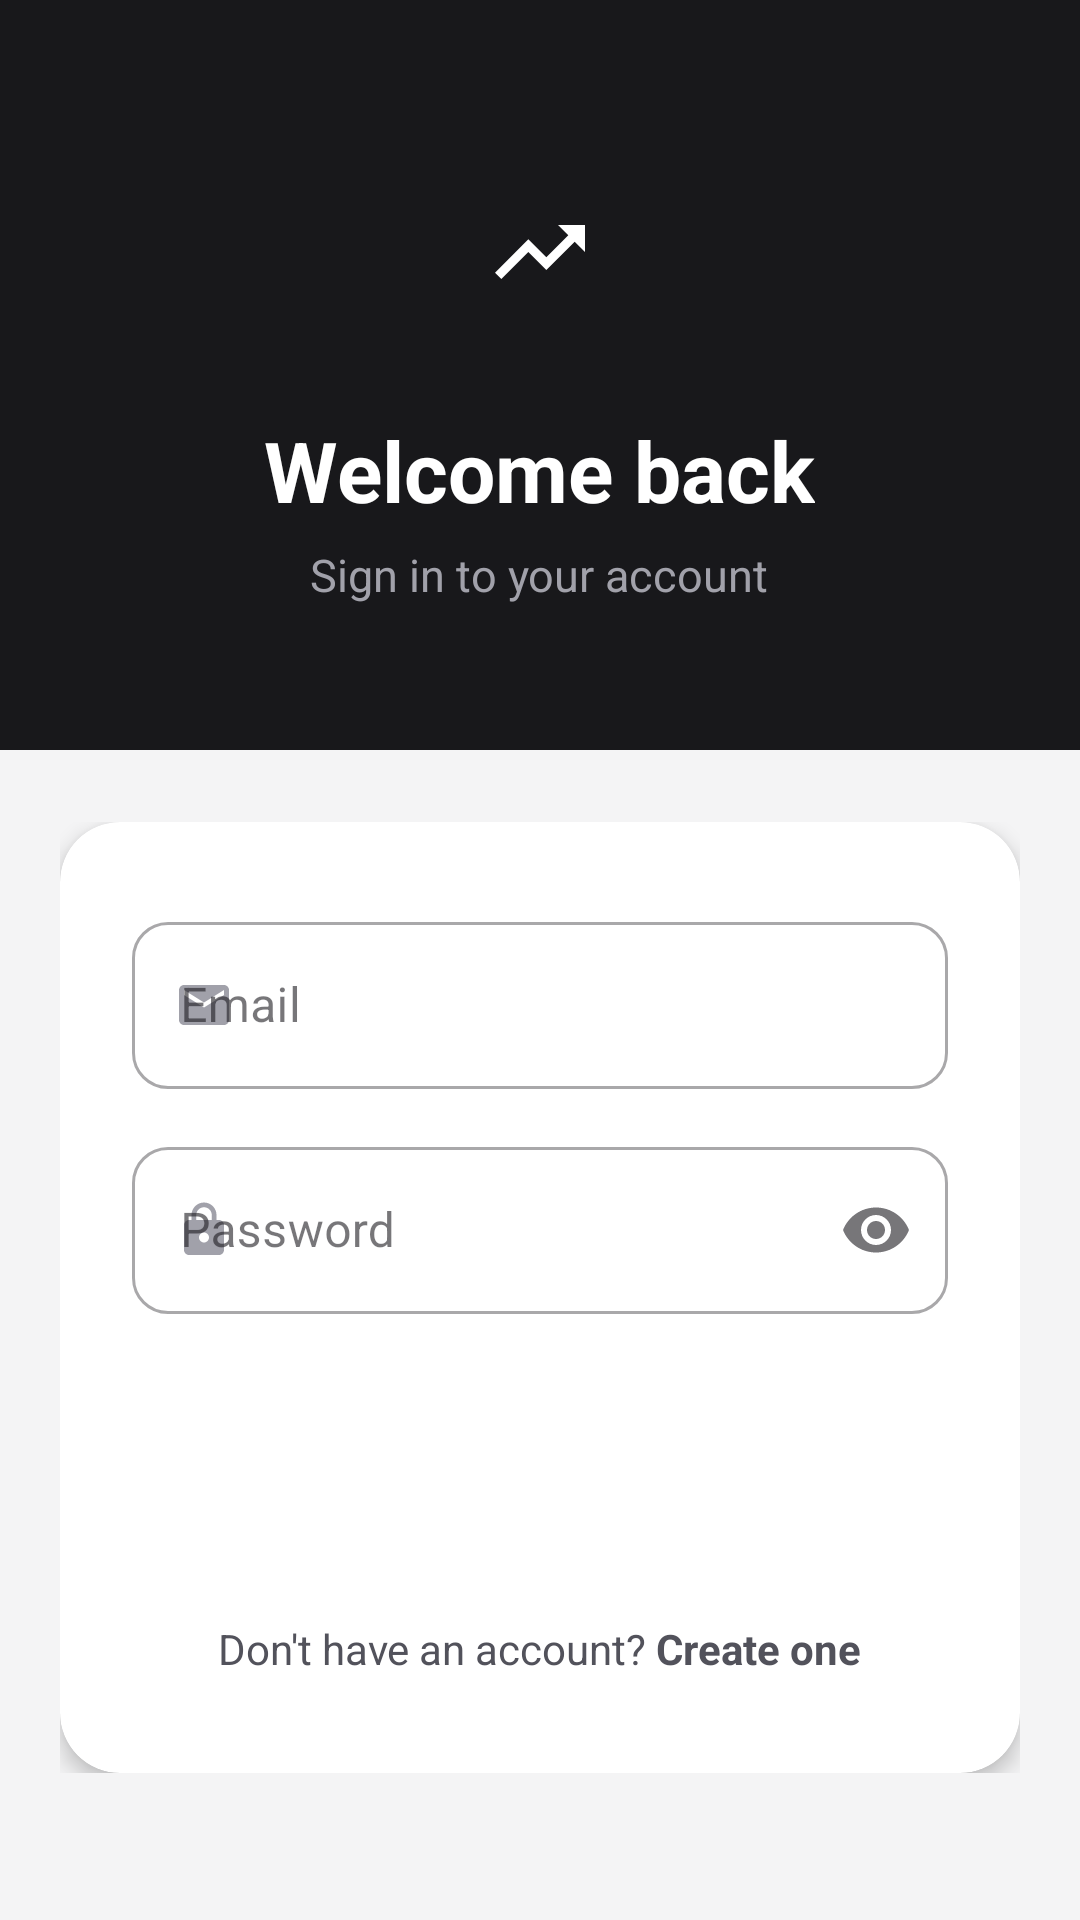

Where to tap for icons on this 1080 × 1920 app screen, as (x=x, y=y):
trending up: (x=540, y=252)
